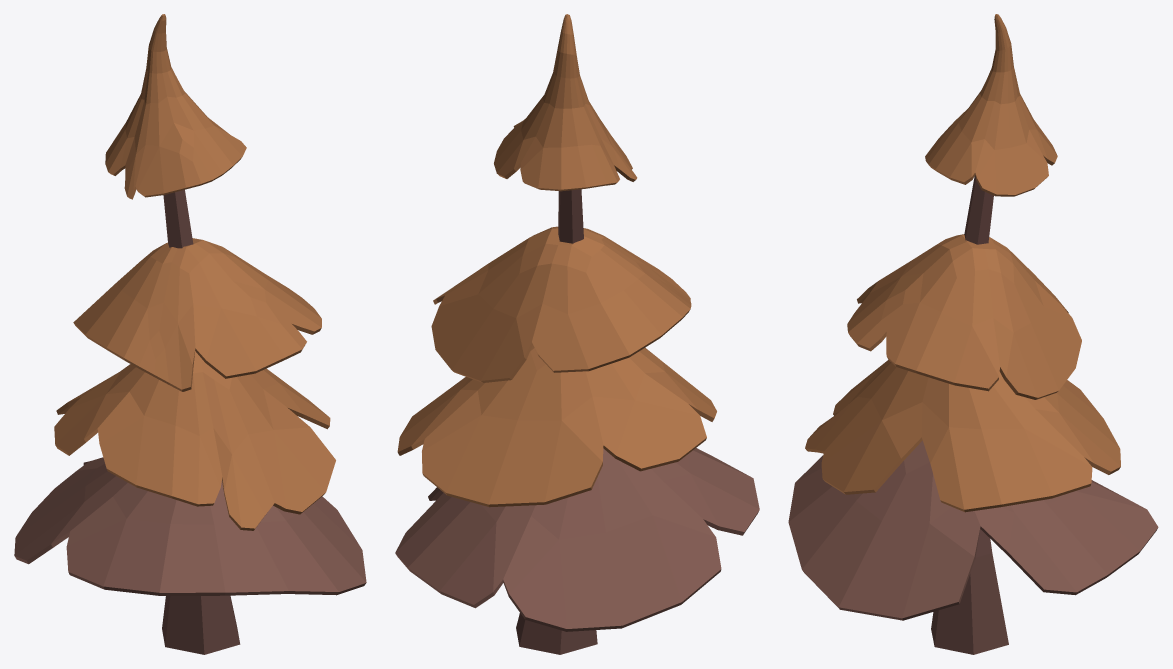
File: PineTree_Autumn_2.glb
3 views of the same model, side by side, from view 1: azimuth 30°, elevation 25°; view 2: azimuth 150°, elevation 25°; view 3: azimuth 270°, elevation 25° (orthographic). The views are drawn at different scales.
Visible parts, largest first — view 1: PineTree_Autumn_2; view 2: PineTree_Autumn_2; view 3: PineTree_Autumn_2.
Part boxes in pixels (x1,y1,x2,y2): PineTree_Autumn_2: (14,14,366,654); PineTree_Autumn_2: (395,14,759,654); PineTree_Autumn_2: (788,14,1158,654).
Bounding box in the file's own units: 1.8 × 3.56 × 1.96.
